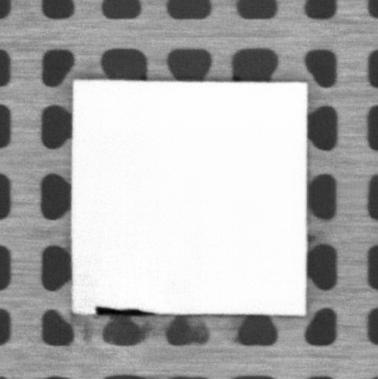DIE_BROKEN: (93, 305, 159, 317)
